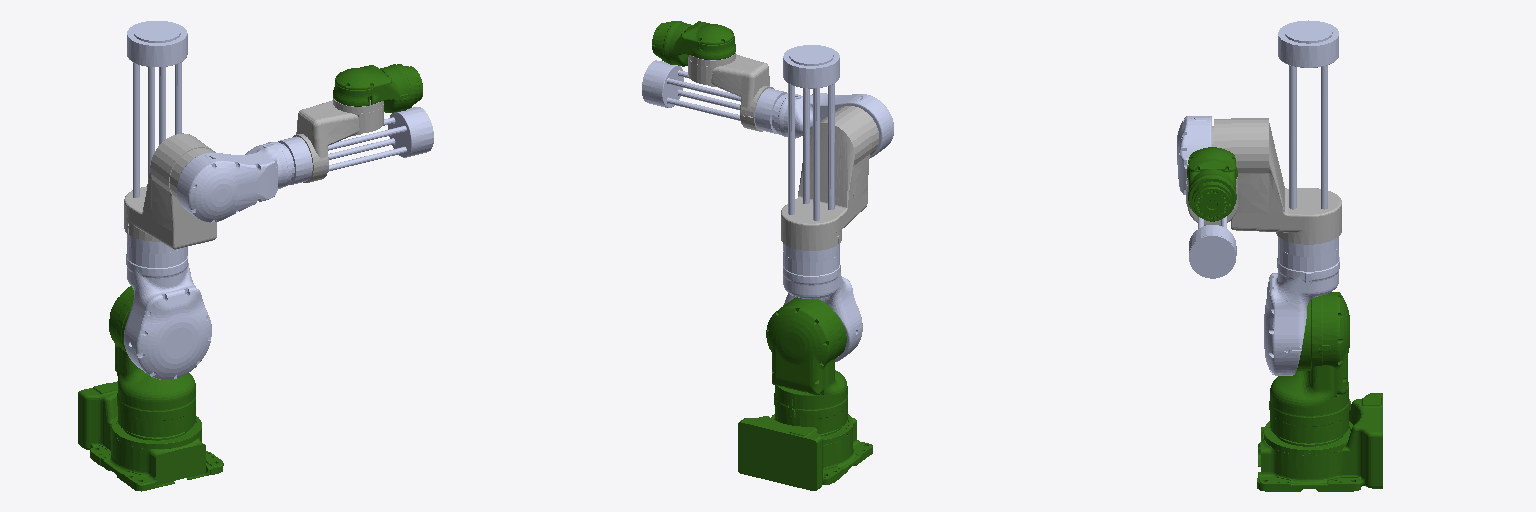
The robot description file, URDF, robot "robot_siad7n":
<?xml version="1.0" encoding="utf-8"?>
<!-- This URDF was automatically created by SolidWorks to URDF Exporter! Originally created by [author] ([email redacted]) 
     Commit Version: 1.6.0-1-g15f4949  Build Version: 1.6.7594.29634
     For more information, please see http://wiki.ros.org/sw_urdf_exporter -->
<robot
  name="robot_siad7n">
  <link
    name="base_link">
    <inertial>
      <origin
        xyz="-0.000142781203599816 0.0532705876648457 0.0677974979176462"
        rpy="0 0 0" />
      <mass
        value="9.56045935245332" />
      <inertia
        ixx="0.106984452971487"
        ixy="0.000141321543711577"
        ixz="7.32310895103946E-05"
        iyy="0.0622135700565055"
        iyz="-0.0105783354798607"
        izz="0.136512878649761" />
    </inertial>
    <visual>
      <origin
        xyz="0 0 0"
        rpy="0 0 0" />
      <geometry>
        <mesh
          filename="package://robot_siad7n/meshes/base_link.STL" />
      </geometry>
      <material
        name="">
        <color
          rgba="0.23921568627451 0.474509803921569 0.133333333333333 1" />
      </material>
    </visual>
    <collision>
      <origin
        xyz="0 0 0"
        rpy="0 0 0" />
      <geometry>
        <mesh
          filename="package://robot_siad7n/meshes/base_link.STL" />
      </geometry>
    </collision>
  </link>
  <link
    name="link_1">
    <inertial>
      <origin
        xyz="1.00333108653757E-06 0.189106618676997 -0.0156119231451303"
        rpy="0 0 0" />
      <mass
        value="0.0117569497463645" />
      <inertia
        ixx="0.000183154145712612"
        ixy="-1.40452305503904E-09"
        ixz="5.87350460962656E-10"
        iyy="6.17033488863618E-05"
        iyz="1.36703017961243E-05"
        izz="0.000186679492541189" />
    </inertial>
    <visual>
      <origin
        xyz="0 0 0"
        rpy="0 0 0" />
      <geometry>
        <mesh
          filename="package://robot_siad7n/meshes/link_1.STL" />
      </geometry>
      <material
        name="">
        <color
          rgba="0.23921568627451 0.474509803921569 0.129411764705882 1" />
      </material>
    </visual>
    <collision>
      <origin
        xyz="0 0 0"
        rpy="0 0 0" />
      <geometry>
        <mesh
          filename="package://robot_siad7n/meshes/link_1.STL" />
      </geometry>
    </collision>
  </link>
  <joint
    name="joint_1"
    type="revolute">
    <origin
      xyz="0 0 0.1175"
      rpy="1.5708 0 0" />
    <parent
      link="base_link" />
    <child
      link="link_1" />
    <axis
      xyz="0 1 0" />
    <limit
      lower="-1.5708"
      upper="1.5708"
      effort="100"
      velocity="50" />
  </joint>
  <link
    name="link_2">
    <inertial>
      <origin
        xyz="9.94785703299712E-06 0.27268310679977 0.0295582992008025"
        rpy="0 0 0" />
      <mass
        value="10.0552877935744" />
      <inertia
        ixx="0.338020265619112"
        ixy="-1.29257105019896E-05"
        ixz="2.92886810346626E-06"
        iyy="0.0467291504250425"
        iyz="0.0229500840245969"
        izz="0.339753837370959" />
    </inertial>
    <visual>
      <origin
        xyz="0 0 0"
        rpy="0 0 0" />
      <geometry>
        <mesh
          filename="package://robot_siad7n/meshes/link_2.STL" />
      </geometry>
      <material
        name="">
        <color
          rgba="0.792156862745098 0.819607843137255 0.933333333333333 1" />
      </material>
    </visual>
    <collision>
      <origin
        xyz="0 0 0"
        rpy="0 0 0" />
      <geometry>
        <mesh
          filename="package://robot_siad7n/meshes/link_2.STL" />
      </geometry>
    </collision>
  </link>
  <joint
    name="joint_2"
    type="revolute">
    <origin
      xyz="0 0.298 0"
      rpy="0 0 0" />
    <parent
      link="link_1" />
    <child
      link="link_2" />
    <axis
      xyz="0 0 1" />
    <limit
      lower="-1.5708"
      upper="1.5708"
      effort="0"
      velocity="0" />
  </joint>
  <link
    name="link_3">
    <inertial>
      <origin
        xyz="9.53265518154114E-06 -0.153702036545705 -0.133410762424367"
        rpy="0 0 0" />
      <mass
        value="0.00843890832225914" />
      <inertia
        ixx="0.000117451151873452"
        ixy="1.10991298245416E-09"
        ixz="-4.98586112813587E-09"
        iyy="7.00119097755916E-05"
        iyz="3.60892225982952E-05"
        izz="8.17537404382889E-05" />
    </inertial>
    <visual>
      <origin
        xyz="0 0 0"
        rpy="0 0 0" />
      <geometry>
        <mesh
          filename="package://robot_siad7n/meshes/link_3.STL" />
      </geometry>
      <material
        name="">
        <color
          rgba="0.745098039215686 0.745098039215686 0.745098039215686 1" />
      </material>
    </visual>
    <collision>
      <origin
        xyz="0 0 0"
        rpy="0 0 0" />
      <geometry>
        <mesh
          filename="package://robot_siad7n/meshes/link_3.STL" />
      </geometry>
    </collision>
  </link>

  <joint
    name="joint_3"
    type="prismatic">
    <origin
      xyz="3.4347E-05 0.3019 0.265"
      rpy="0 0 3.1416" />
    <parent
      link="link_2" />
    <child
      link="link_3" />
    <axis
      xyz="0 -1 0" />
    <limit
      lower="0"
      upper="0.32"
      effort="100"
      velocity="10" />
  </joint>
  <link
    name="link_4">
    <inertial>
      <origin
        xyz="-7.30288412409408E-07 0.209780950057377 -0.0209890962252118"
        rpy="0 0 0" />
      <mass
        value="6.45548612950254" />
      <inertia
        ixx="0.110031218238487"
        ixy="-8.21723912250207E-06"
        ixz="-1.43282615572879E-06"
        iyy="0.0163209157770267"
        iyz="-0.00683093275863895"
        izz="0.111596153155119" />
    </inertial>
    <visual>
      <origin
        xyz="0 0 0"
        rpy="0 0 0" />
      <geometry>
        <mesh
          filename="package://robot_siad7n/meshes/link_4.STL" />
      </geometry>
      <material
        name="">
        <color
          rgba="0.792156862745098 0.819607843137255 0.933333333333333 1" />
      </material>
    </visual>
    <collision>
      <origin
        xyz="0 0 0"
        rpy="0 0 0" />
      <geometry>
        <mesh
          filename="package://robot_siad7n/meshes/link_4.STL" />
      </geometry>
    </collision>
  </link>
  <joint
    name="joint_4"
    type="revolute">
    <origin
      xyz="0 -0.2426 0"
      rpy="-3.1416 0 -1.5708" />
    <parent
      link="link_3" />
    <child
      link="link_4" />
    <axis
      xyz="0 0 1" />
    <limit
      lower="-4.5379"
      upper="1.3963"
      effort="0"
      velocity="0" />
  </joint>
  <link
    name="link_5">
    <inertial>
      <origin
        xyz="0.000129398977391504 0.117453332073031 0.0765460795634565"
        rpy="0 0 0" />
      <mass
        value="0.00287980676910192" />
      <inertia
        ixx="2.18028328273116E-05"
        ixy="2.53211631323968E-08"
        ixz="-2.18654277813101E-08"
        iyy="1.07070235010784E-05"
        iyz="6.40548744505837E-06"
        izz="1.8114766863912E-05" />
    </inertial>
    <visual>
      <origin
        xyz="0 0 0"
        rpy="0 0 0" />
      <geometry>
        <mesh
          filename="package://robot_siad7n/meshes/link_5.STL" />
      </geometry>
      <material
        name="">
        <color
          rgba="0.745098039215686 0.745098039215686 0.745098039215686 1" />
      </material>
    </visual>
    <collision>
      <origin
        xyz="0 0 0"
        rpy="0 0 0" />
      <geometry>
        <mesh
          filename="package://robot_siad7n/meshes/link_5.STL" />
      </geometry>
    </collision>
  </link>
  <joint
    name="joint_5"
    type="prismatic">
    <origin
      xyz="0.160499999999997 0.306999974999982 0.000853052852609892"
      rpy="0 -1.5707963267949 0" />
    <parent
      link="link_4" />
    <child
      link="link_5" />
    <axis
      xyz="0 1 0" />
    <limit
      lower="0"
      upper="0.25"
      effort="0"
      velocity="0" />
  </joint>
  <link
    name="link_6">
    <inertial>
      <origin
        xyz="9.82919591735465E-06 0.0698495333218837 0.00199805459234836"
        rpy="0 0 0" />
      <mass
        value="0.00201842025658046" />
      <inertia
        ixx="9.76013914138224E-06"
        ixy="-1.90464270060181E-09"
        ixz="2.8245595760541E-10"
        iyy="4.29998931193969E-06"
        iyz="2.15922124437545E-06"
        izz="9.77941249617458E-06" />
    </inertial>
    <visual>
      <origin
        xyz="0 0 0"
        rpy="0 0 0" />
      <geometry>
        <mesh
          filename="package://robot_siad7n/meshes/link_6.STL" />
      </geometry>
      <material
        name="">
        <color
          rgba="0.23921568627451 0.474509803921569 0.129411764705882 1" />
      </material>
    </visual>
    <collision>
      <origin
        xyz="0 0 0"
        rpy="0 0 0" />
      <geometry>
        <mesh
          filename="package://robot_siad7n/meshes/link_6.STL" />
      </geometry>
    </collision>
  </link>
  <joint
    name="joint_6"
    type="revolute">
    <origin
      xyz="0 0.181000025000001 0"
      rpy="3.14159265358979 0 3.14159265358979" />
    <parent
      link="link_5" />
    <child
      link="link_6" />
    <axis
      xyz="0 0 1" />
    <limit
      lower="-1.5708"
      upper="1.5708"
      effort="0"
      velocity="0" />
  </joint>
  <link
    name="EF">
    <inertial>
      <origin
        xyz="-0.00019051739774667 0.00862752234674491 -2.4749311783534E-05"
        rpy="0 0 0" />
      <mass
        value="9.59762719689292E-05" />
      <inertia
        ixx="5.9834661308121E-08"
        ixy="2.02236286461034E-11"
        ixz="-5.68210062676186E-10"
        iyy="1.15195799642585E-07"
        iyz="1.77104498784613E-12"
        izz="5.84840093540985E-08" />
    </inertial>
    <visual>
      <origin
        xyz="0 0 0"
        rpy="0 0 0" />
      <geometry>
        <mesh
          filename="package://robot_siad7n/meshes/EF.STL" />
      </geometry>
      <material
        name="">
        <color
          rgba="0.23921568627451 0.474509803921569 0.129411764705882 1" />
      </material>
    </visual>
    <collision>
      <origin
        xyz="0 0 0"
        rpy="0 0 0" />
      <geometry>
        <mesh
          filename="package://robot_siad7n/meshes/EF.STL" />
      </geometry>
    </collision>
  </link>
  <joint
    name="joint_7"
    type="revolute">
    <origin
      xyz="0 0.162188781523228 -0.0160000000000009"
      rpy="3.14159265358979 0 3.14159265358979" />
    <parent
      link="link_6" />
    <child
      link="EF" />
    <axis
      xyz="0 1 0" />
    <limit
      lower="-3.1416"
      upper="3.1416"
      effort="0"
      velocity="0" />
  </joint>
</robot>

--- What the picture shows (computed from the rendered views, not written in the file) ---
The picture shows the robot from 3 angles, left to right: view 1: azimuth 30°, elevation 25°; view 2: azimuth 150°, elevation 25°; view 3: azimuth 270°, elevation 25°; orthographic projection.
Robot: robot_siad7n — 8 links, 7 joints (5 revolute, 2 prismatic); root link base_link; default pose: all joints at 0.
Links seen in each view (by area): view 1: link_2, link_4, base_link, link_3, link_1, link_5, link_6; view 2: link_2, link_1, link_3, base_link, link_4, link_5, link_6; view 3: link_2, link_1, link_3, base_link, link_4, link_6, EF.
Link boxes in pixels (x1=…): link_2: x1=124, y1=21, x2=211, y2=379; link_4: x1=177, y1=107, x2=433, y2=222; base_link: x1=78, y1=381, x2=223, y2=491; link_3: x1=124, y1=133, x2=216, y2=249; link_1: x1=109, y1=286, x2=195, y2=437; link_5: x1=293, y1=98, x2=383, y2=182; link_6: x1=333, y1=64, x2=419, y2=112; link_2: x1=783, y1=45, x2=862, y2=361; link_1: x1=766, y1=297, x2=847, y2=433; link_3: x1=781, y1=106, x2=878, y2=250; base_link: x1=738, y1=414, x2=872, y2=490; link_4: x1=642, y1=60, x2=893, y2=157; link_5: x1=688, y1=52, x2=773, y2=131; link_6: x1=655, y1=21, x2=735, y2=66; link_2: x1=1264, y1=20, x2=1339, y2=375; link_1: x1=1269, y1=292, x2=1350, y2=443; link_3: x1=1212, y1=118, x2=1341, y2=244; base_link: x1=1257, y1=393, x2=1382, y2=491; link_4: x1=1177, y1=116, x2=1236, y2=278; link_6: x1=1187, y1=147, x2=1237, y2=217; EF: x1=1194, y1=187, x2=1230, y2=221.
Bounding box of the posed robot: 0.835 × 0.5609 × 1.31 m (x, y, z).
8 mesh visuals loaded from 8 distinct referenced files (8 binary STL).
